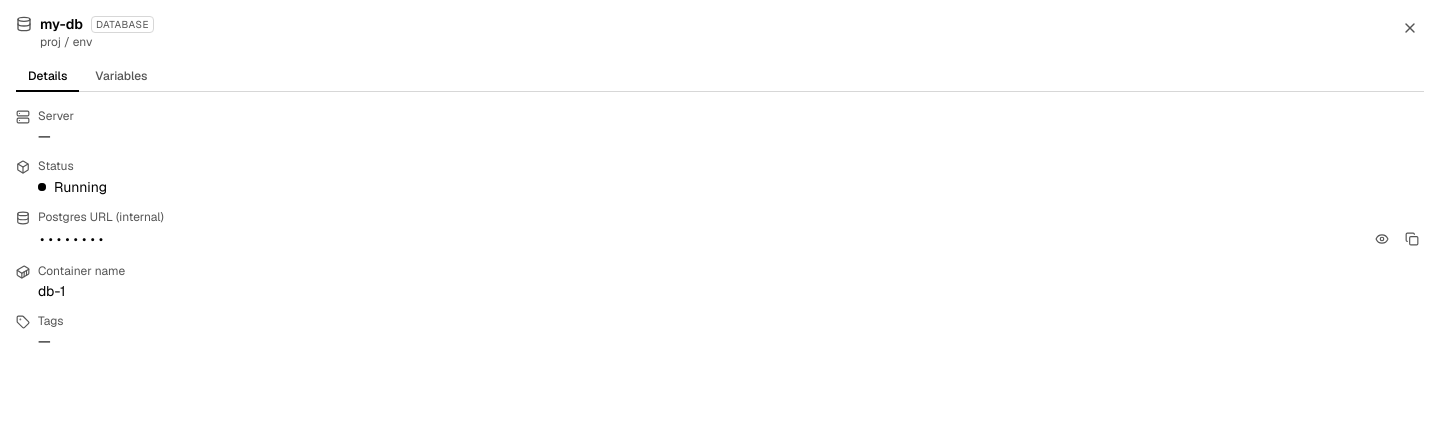
Test: DatabaseCopyMenu ARIA menu widget › exposes the panel as role=menu and each choice as role=menuitem when open
This screenshot has width=1440, height=426.
Click the button named "copy connection url".
click(1412, 239)  # box [1400,227,1424,251]
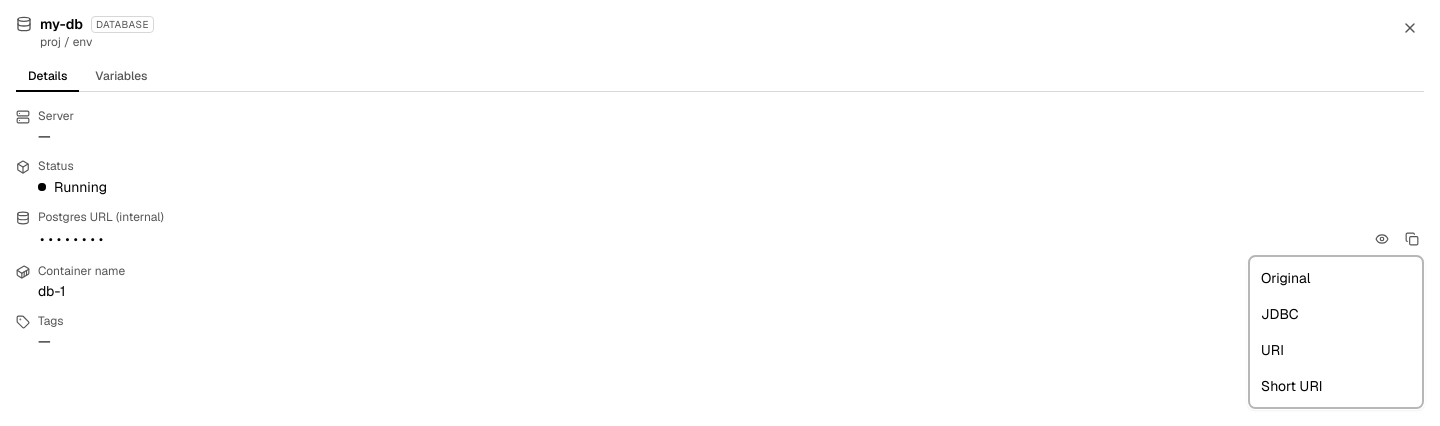
Check: the menu is shown, box [1248,255,1424,409]
Check: the menu items read "Original", "JDBC", "URI", "Short URI", in this order, box [1249,260,1423,296]; [1249,296,1423,332]; [1249,332,1423,368]; [1249,368,1423,404]
